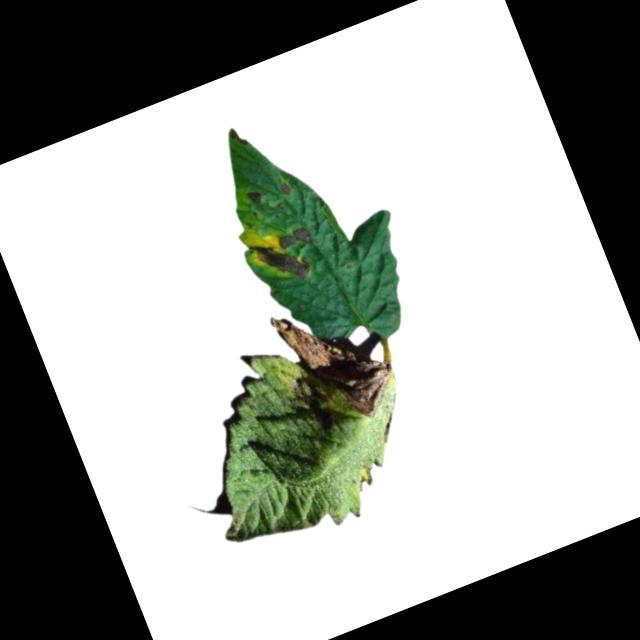Early_blight: (269, 282, 406, 440), (246, 226, 314, 295), (275, 222, 316, 254), (276, 176, 293, 196)
